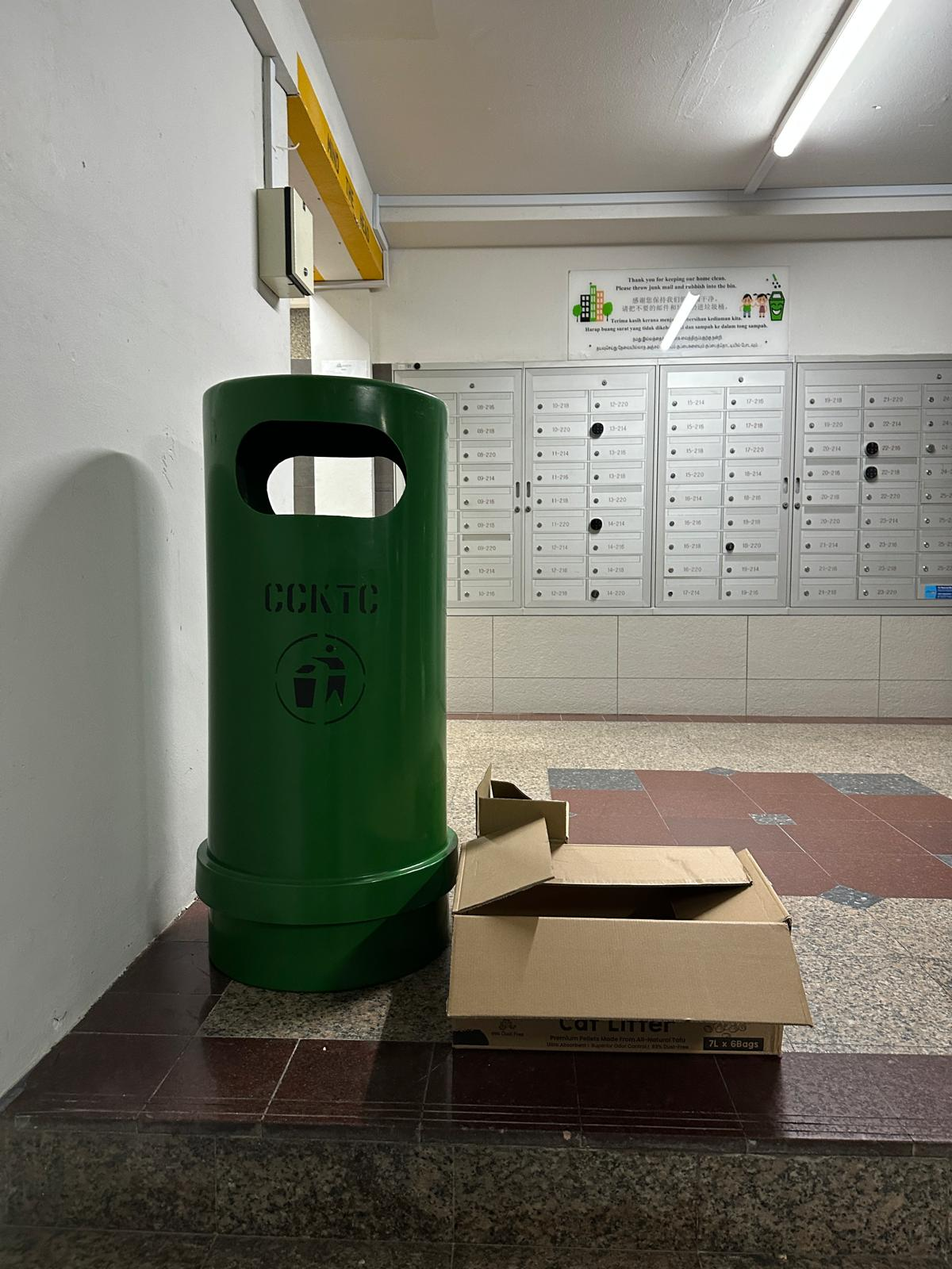bin_empty: (195, 375, 458, 991)
bulk_waste: (447, 769, 812, 1054)
